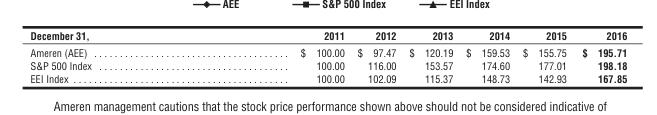table: (29, 29, 626, 84)
table column: (29, 29, 195, 84), (195, 29, 350, 84), (515, 29, 573, 84), (401, 29, 458, 84), (458, 29, 515, 84), (573, 29, 626, 84), (350, 29, 401, 84)
table column header: (29, 29, 626, 43)
table row: (29, 43, 626, 58), (29, 29, 626, 43), (29, 58, 626, 71), (29, 71, 626, 84)
